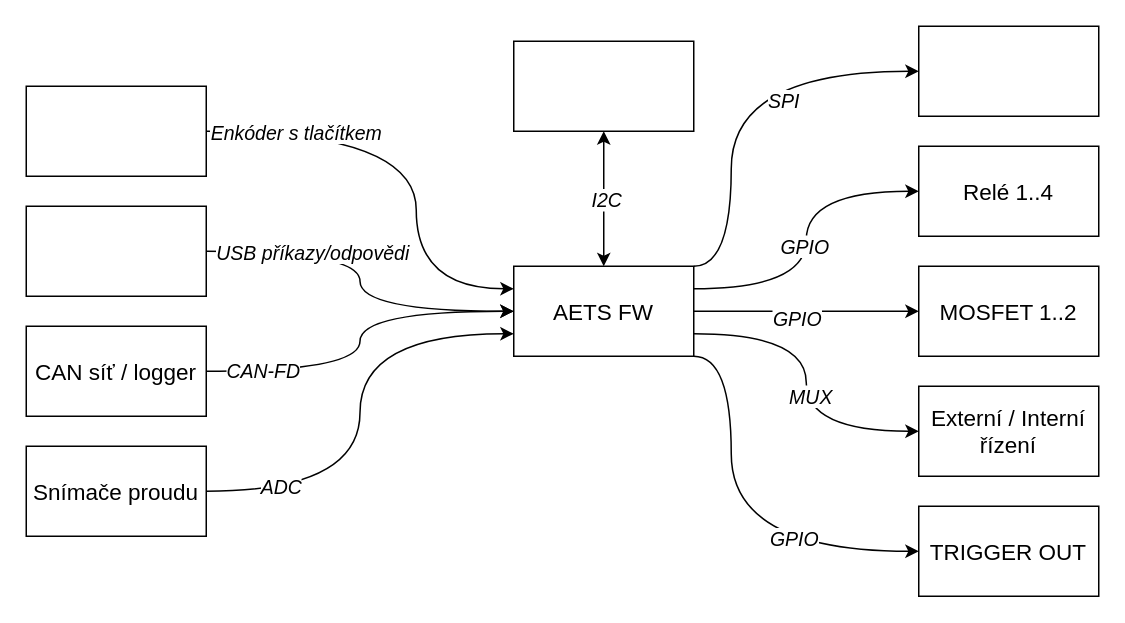
Image size: 1125x623. Some labels were removed from this diagram. Each missing label, with the centre of its shape:
EEPROM: pixel 603 85
Obsluha: pixel 115 130
OLED Displej: pixel 1008 70
PC aplikace / terminál: pixel 115 250
